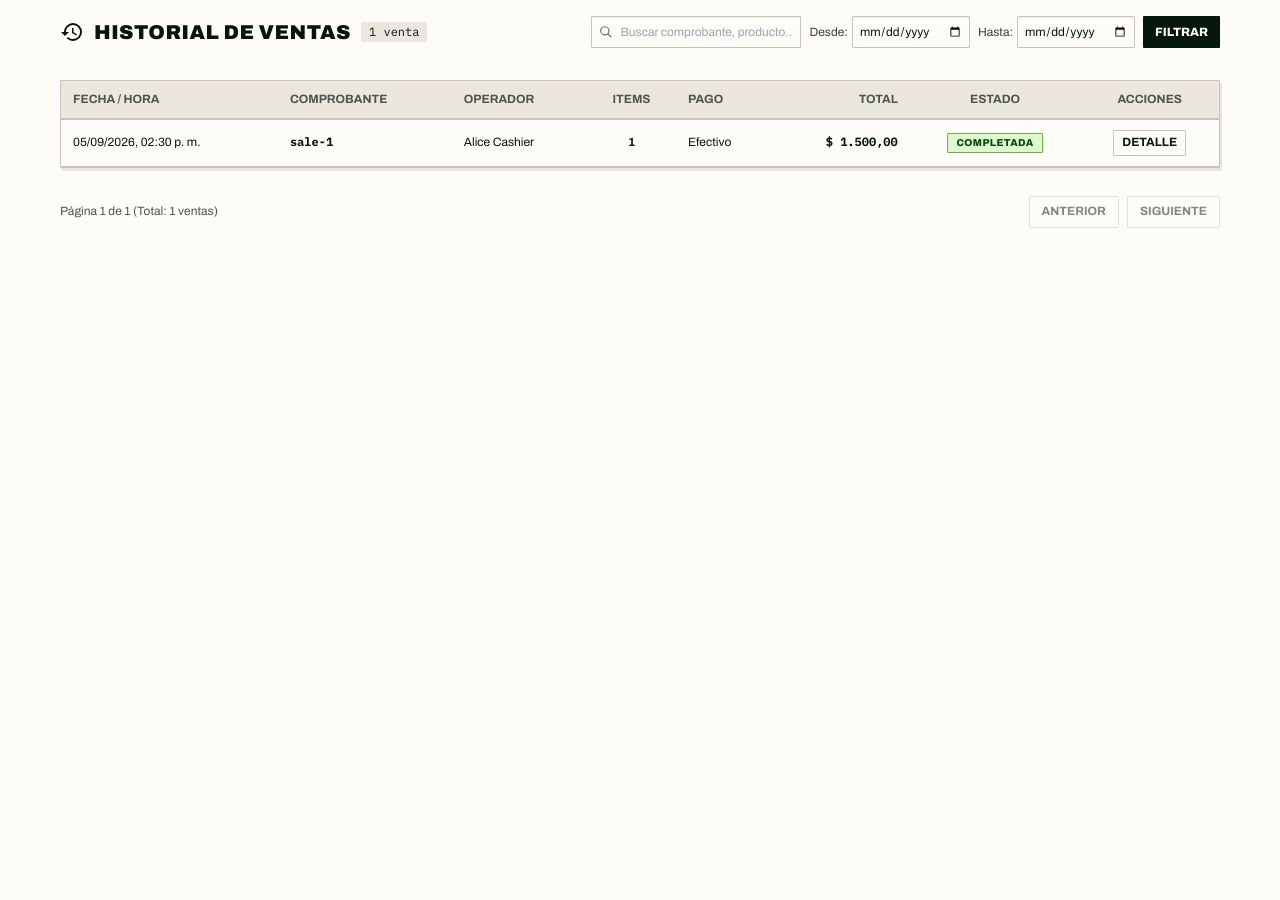
Test: SalesHistoryScreen › opens and closes sale detail modal displaying line items and tenders
Click the button "DETALLE".
click(1150, 143)  # box x1=1113 y1=130 x2=1186 y2=156
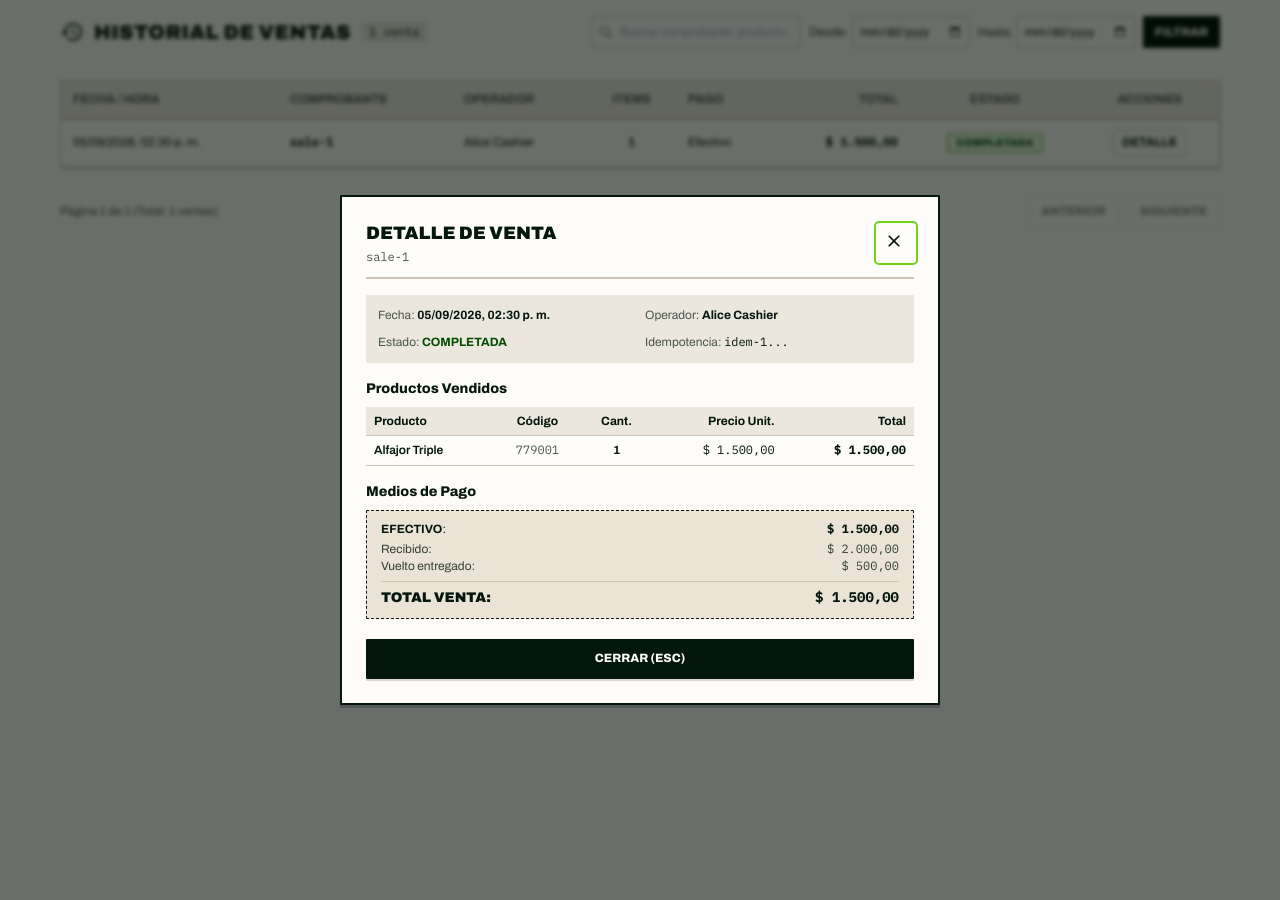
expect the heading "DETALLE DE VENTA" is shown: met, box x1=366 y1=221 x2=557 y2=246
expect the text "Alfajor Triple" is shown: met, box x1=366 y1=436 x2=493 y2=466
expect the text "779001" is shown: met, box x1=493 y1=436 x2=582 y2=466
Close button closes modal
Click the button named "Cerrar detalle".
click(896, 243)  # box x1=878 y1=225 x2=914 y2=261
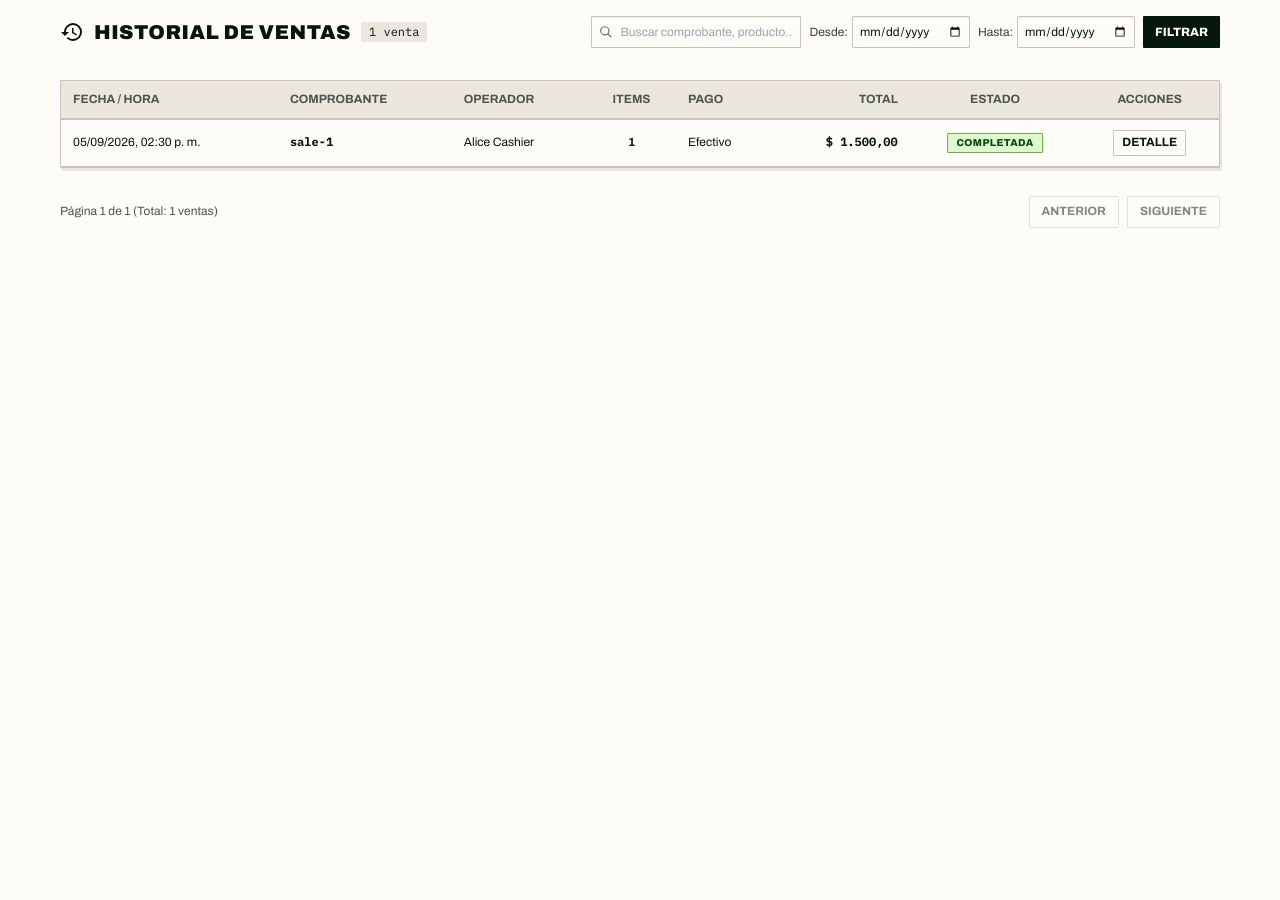
expect the heading "DETALLE DE VENTA" is gone: met
